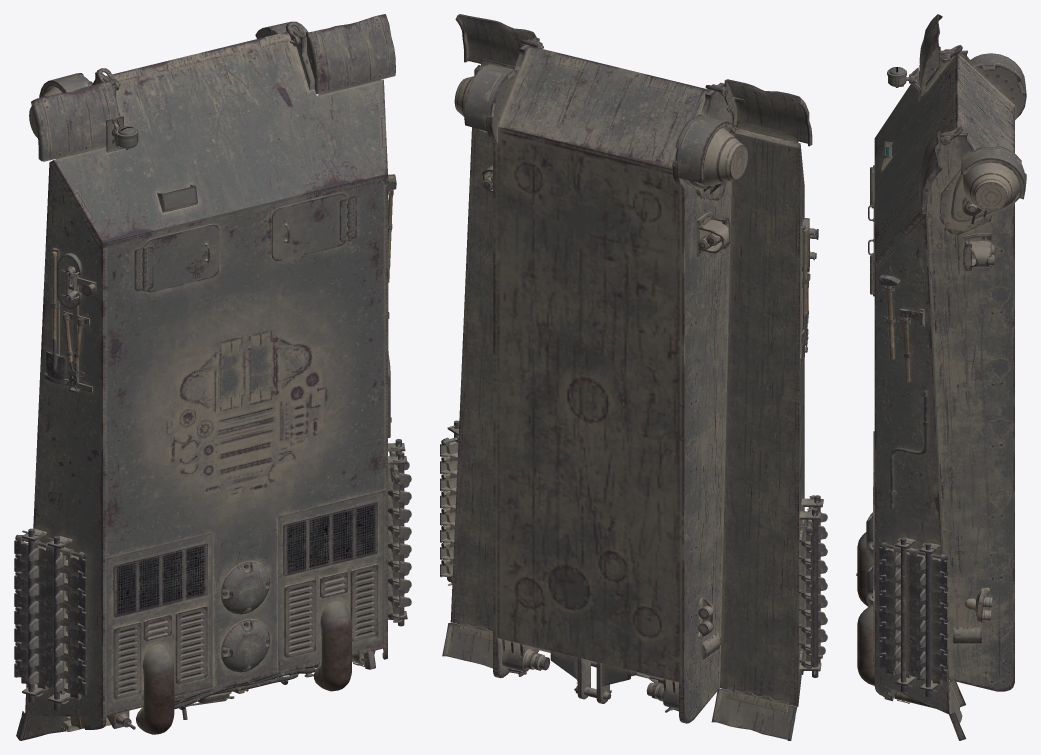
Rendered from Hull.glb.
The picture shows the model from 3 angles, left to right: view 1: azimuth 30°, elevation 25°; view 2: azimuth 150°, elevation 25°; view 3: azimuth 270°, elevation 25°; orthographic projection. The views are drawn at different scales.
Visible parts, largest first — view 1: set_0_group_0; view 2: set_0_group_0; view 3: set_0_group_0.
Boxes of the visible parts, x1,y1,x2,y2 form: set_0_group_0: (14,14,411,740); set_0_group_0: (440,14,827,740); set_0_group_0: (856,14,1026,740).
Size of the model in its own units: 3.45 by 5.66 by 1.51.
1 material, 1 textured.
